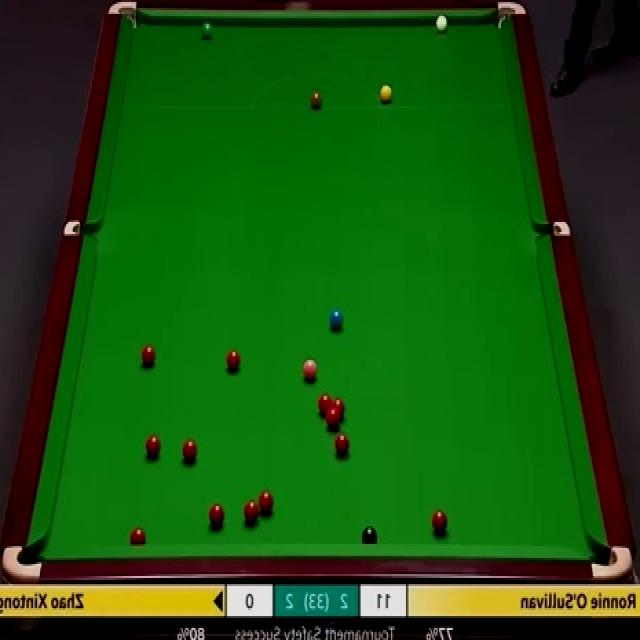black-ball: (360, 525, 378, 546)
blue-ball: (328, 308, 344, 329)
brown-ball: (310, 88, 322, 108)
green-ball: (201, 22, 214, 40)
pink-ball: (301, 359, 318, 384)
red-ball: (180, 438, 198, 464), (243, 497, 259, 526), (432, 508, 449, 535), (225, 346, 242, 373), (208, 504, 225, 530), (258, 490, 274, 516), (334, 434, 351, 458), (144, 434, 160, 458), (142, 344, 156, 369), (332, 398, 346, 422), (318, 393, 331, 418), (129, 526, 147, 543), (324, 411, 340, 430)
white-ball: (431, 29, 446, 47)
yellow-ball: (381, 86, 393, 102)
